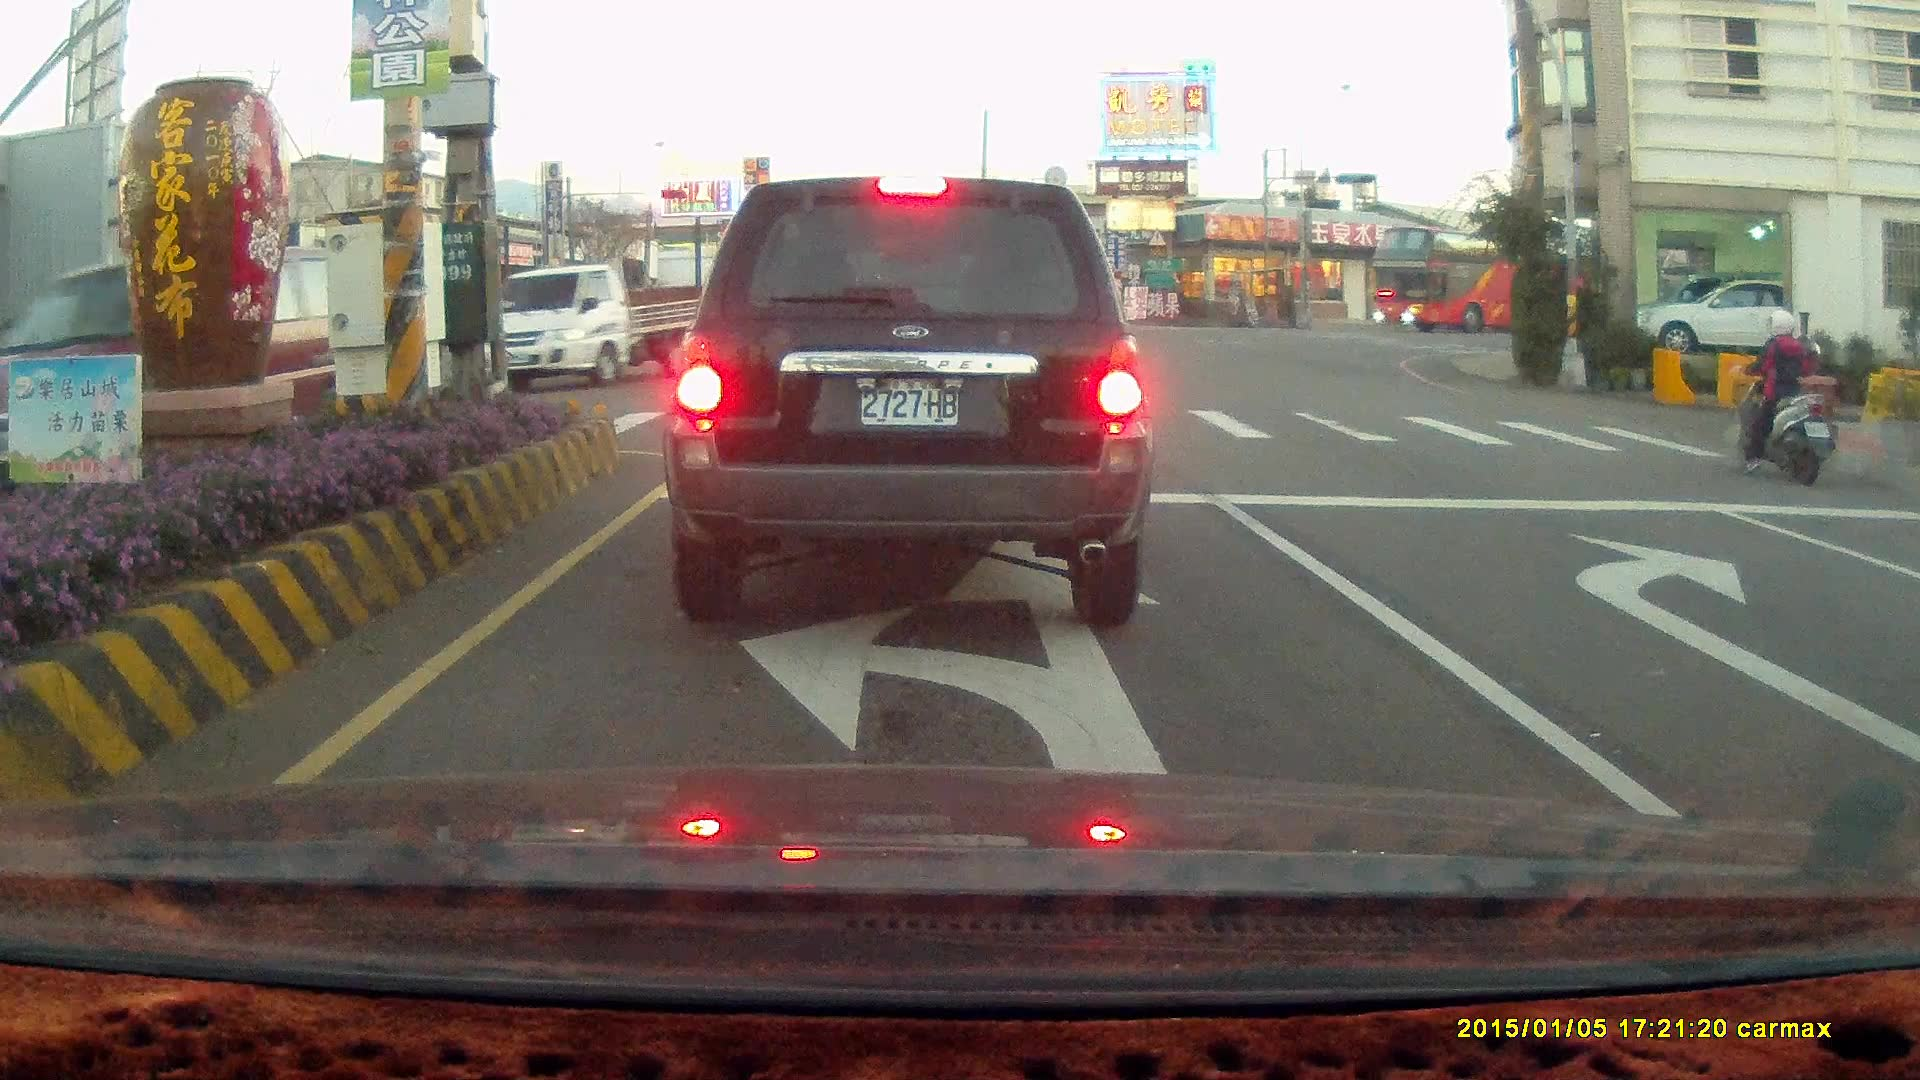rider: (1727, 308, 1832, 483)
vehicle: (660, 174, 1153, 629), (0, 246, 372, 497), (497, 260, 736, 385), (1370, 224, 1579, 334), (1621, 274, 1829, 353), (1642, 275, 1784, 356), (1896, 493, 1920, 836), (1883, 528, 1920, 690)
